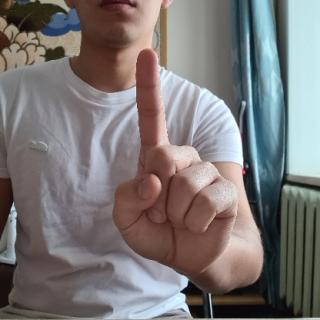BAA: (106, 44, 240, 286)
